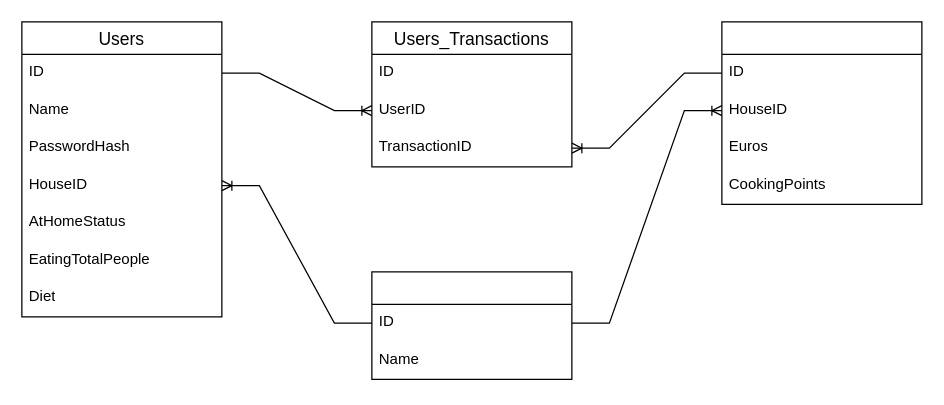
This 944x405 diagram has some shape labels left out. Each missing label, with the box of its shape:
Houses: (371, 271, 572, 379)
Transactions: (721, 21, 922, 204)
